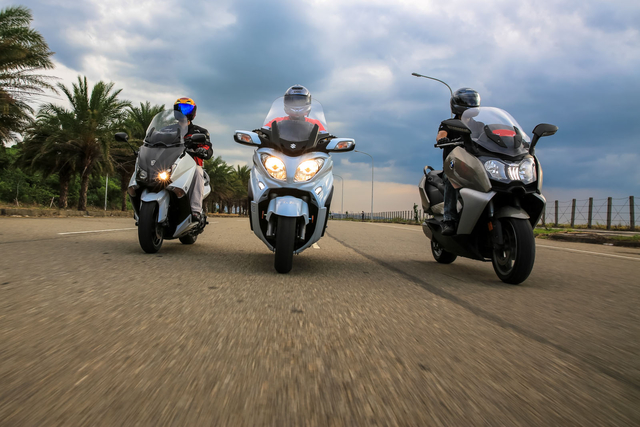helmet: (450, 84, 484, 118), (281, 89, 316, 120), (173, 99, 196, 124)
